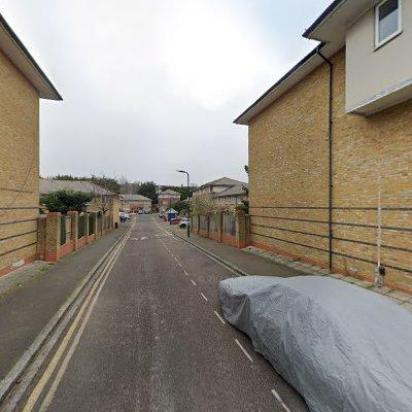stationary-car-offstreet: (179, 217, 189, 229)
stationary-car-onstreet: (214, 274, 412, 412)
